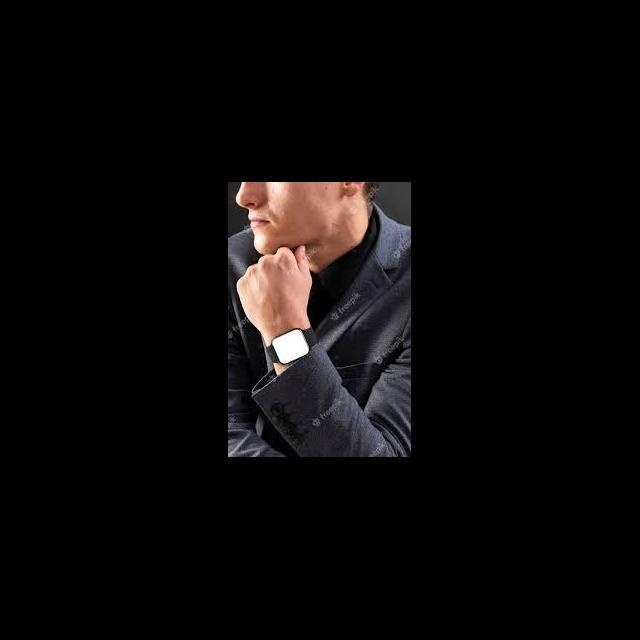watch: (246, 307, 316, 363)
